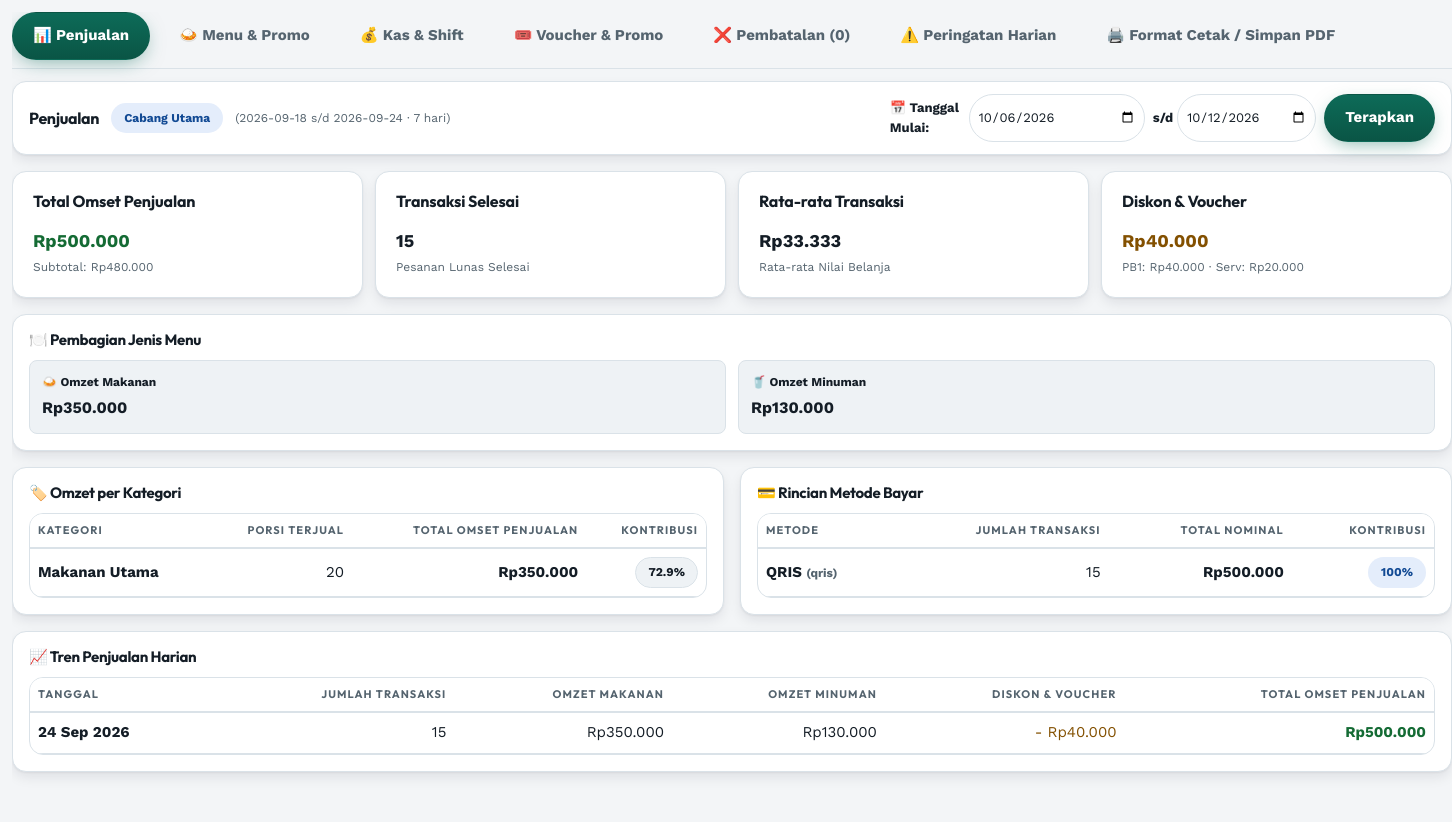
Test: LayarLaporan › dapat berpindah ke tab Menu & Promo dan menampilkan peringkat menu terlaris
What coordinates should you click on to do the following:
click the button "🍛 Menu & Promo"
I would click on:
 (244, 36)
Its box is [158, 12, 331, 60].
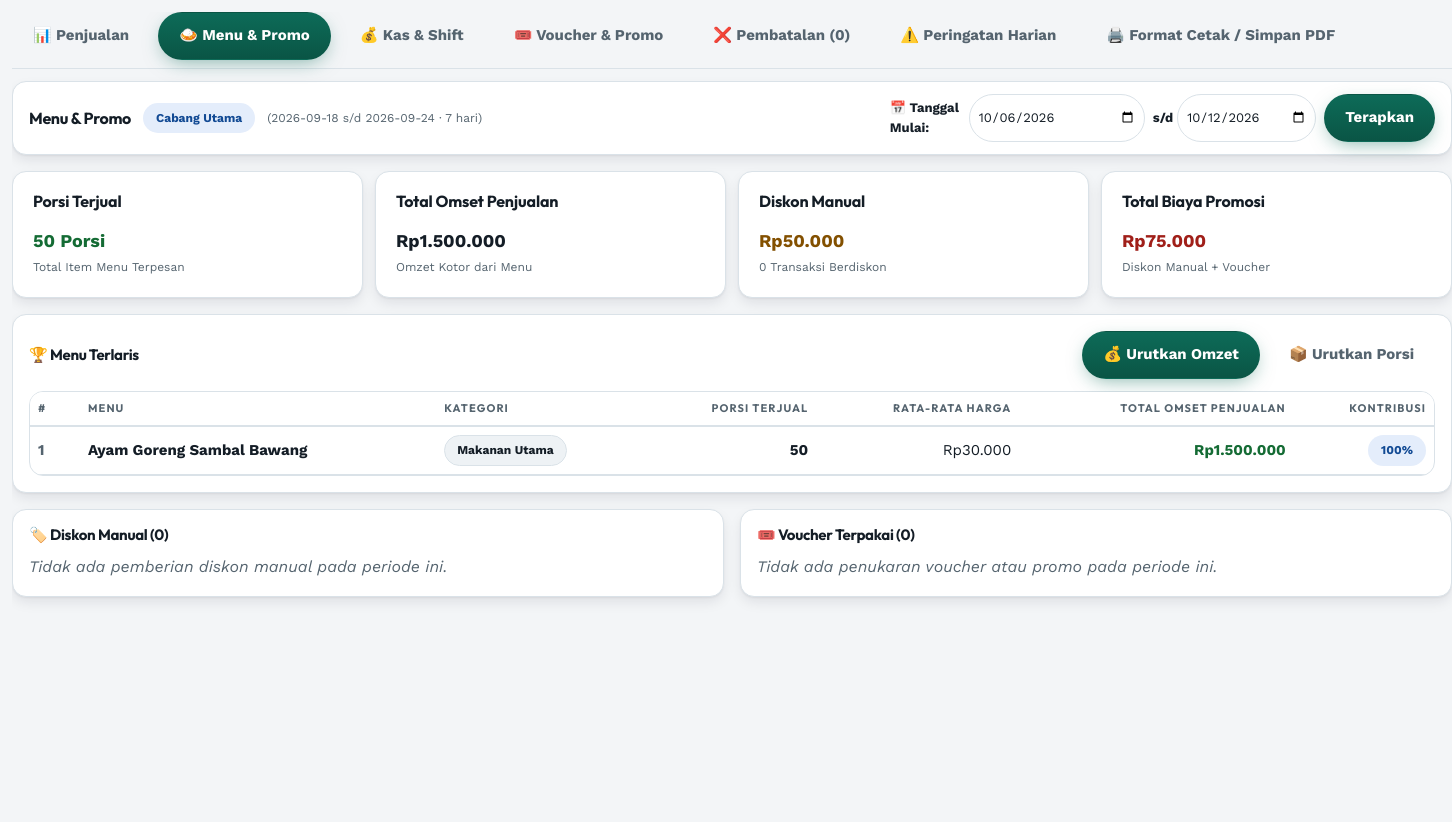
Expected: the text "Ayam Goreng Sambal Bawang" is shown, [80, 426, 436, 474]
Expected: the text "50 Porsi" is shown, [33, 230, 105, 250]
